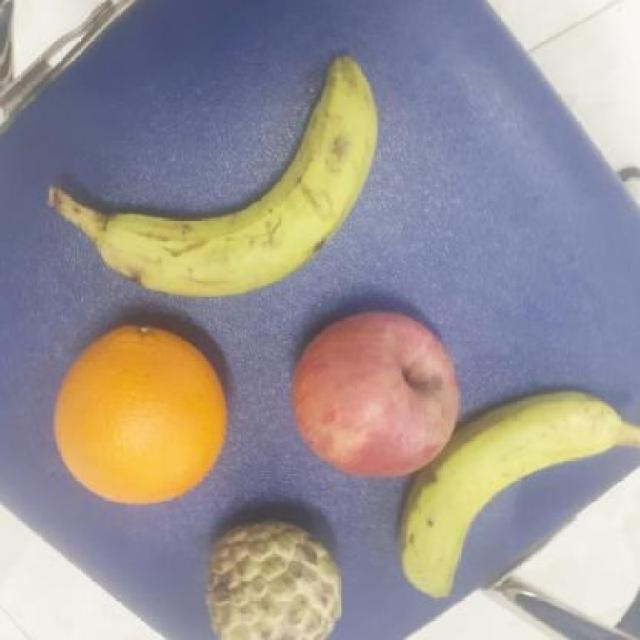apple: (285, 309, 462, 480)
banana: (87, 49, 384, 306), (390, 385, 633, 613)
oren: (53, 325, 236, 507)
sugar apple: (203, 523, 346, 640)
